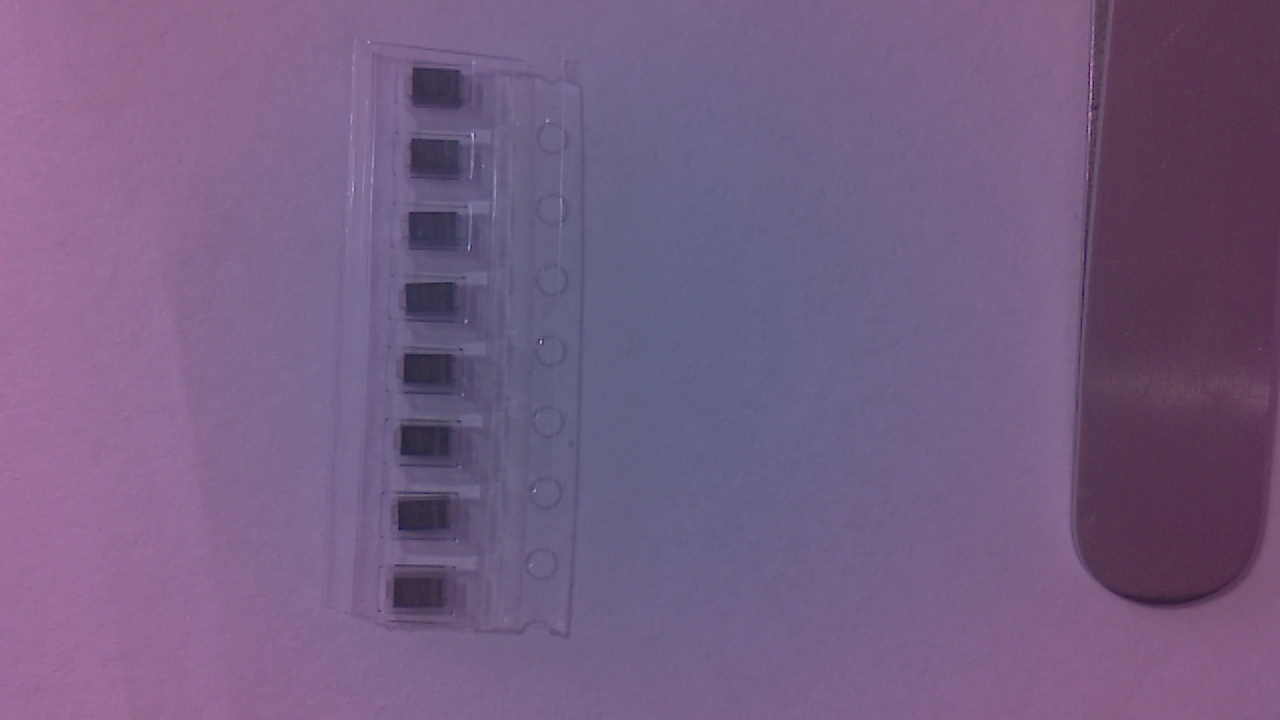Diode: (390, 575, 461, 619), (405, 72, 477, 115), (396, 499, 467, 541), (399, 427, 471, 468), (405, 139, 472, 181), (399, 356, 469, 395), (405, 213, 470, 254), (401, 286, 474, 322)
